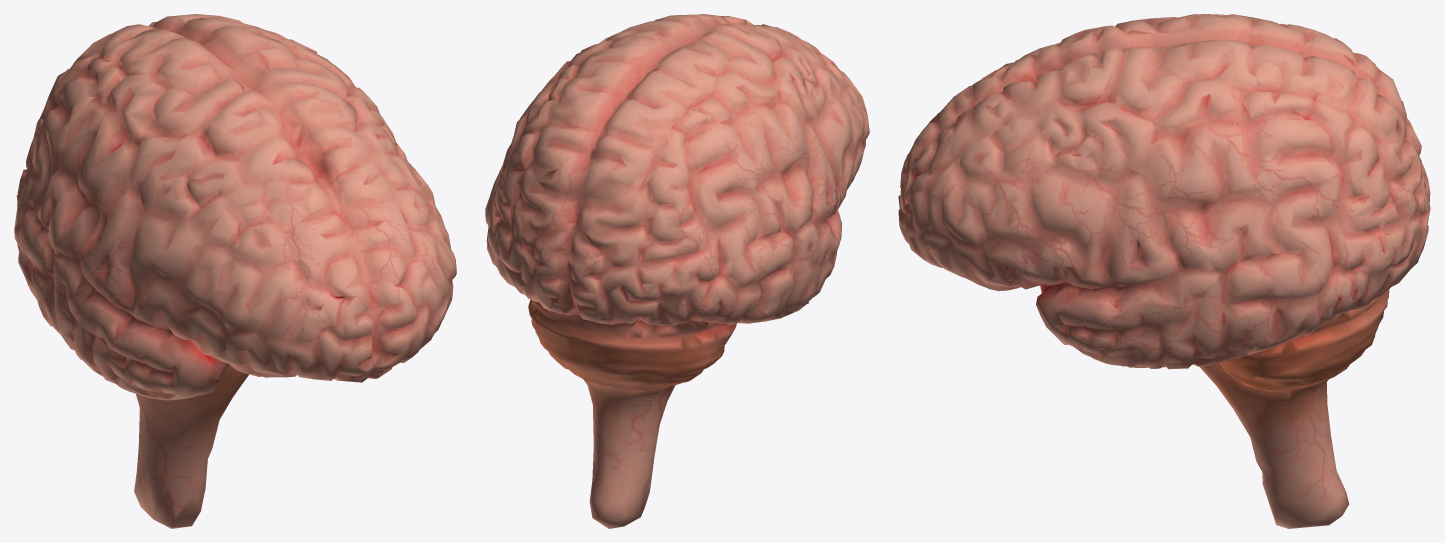
Rendered from brain.glb.
3 renders of one model, left to right at view 1: azimuth 30°, elevation 25°; view 2: azimuth 150°, elevation 25°; view 3: azimuth 270°, elevation 25°, orthographic. The views are drawn at different scales.
Visible parts, largest first — view 1: Icosphere__0; view 2: Icosphere__0; view 3: Icosphere__0.
Boxes of the visible parts, x1,y1,x2,y2 form: Icosphere__0: (14, 14, 456, 528); Icosphere__0: (485, 14, 869, 528); Icosphere__0: (898, 14, 1430, 528).
Size of the model in its own units: 236 by 353 by 344.
Materials: 1 (1 with a texture image).
